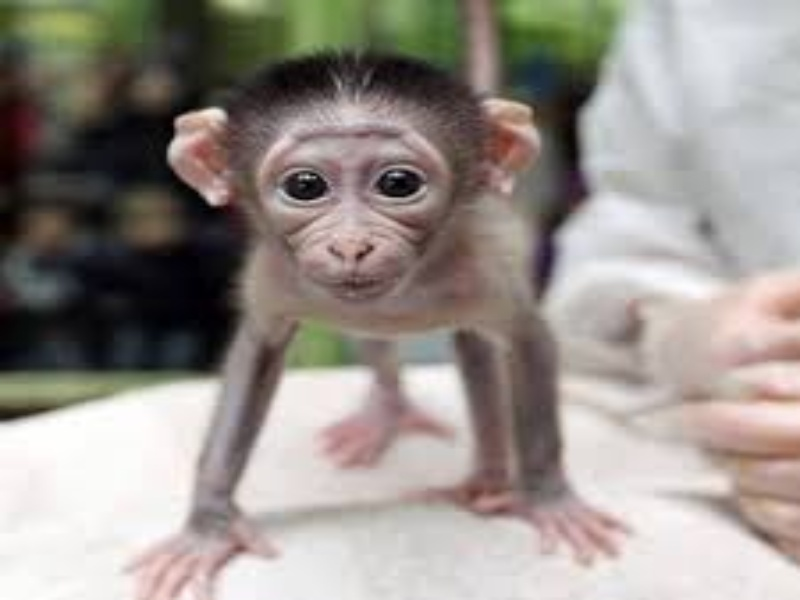monkey: (153, 37, 651, 600)
